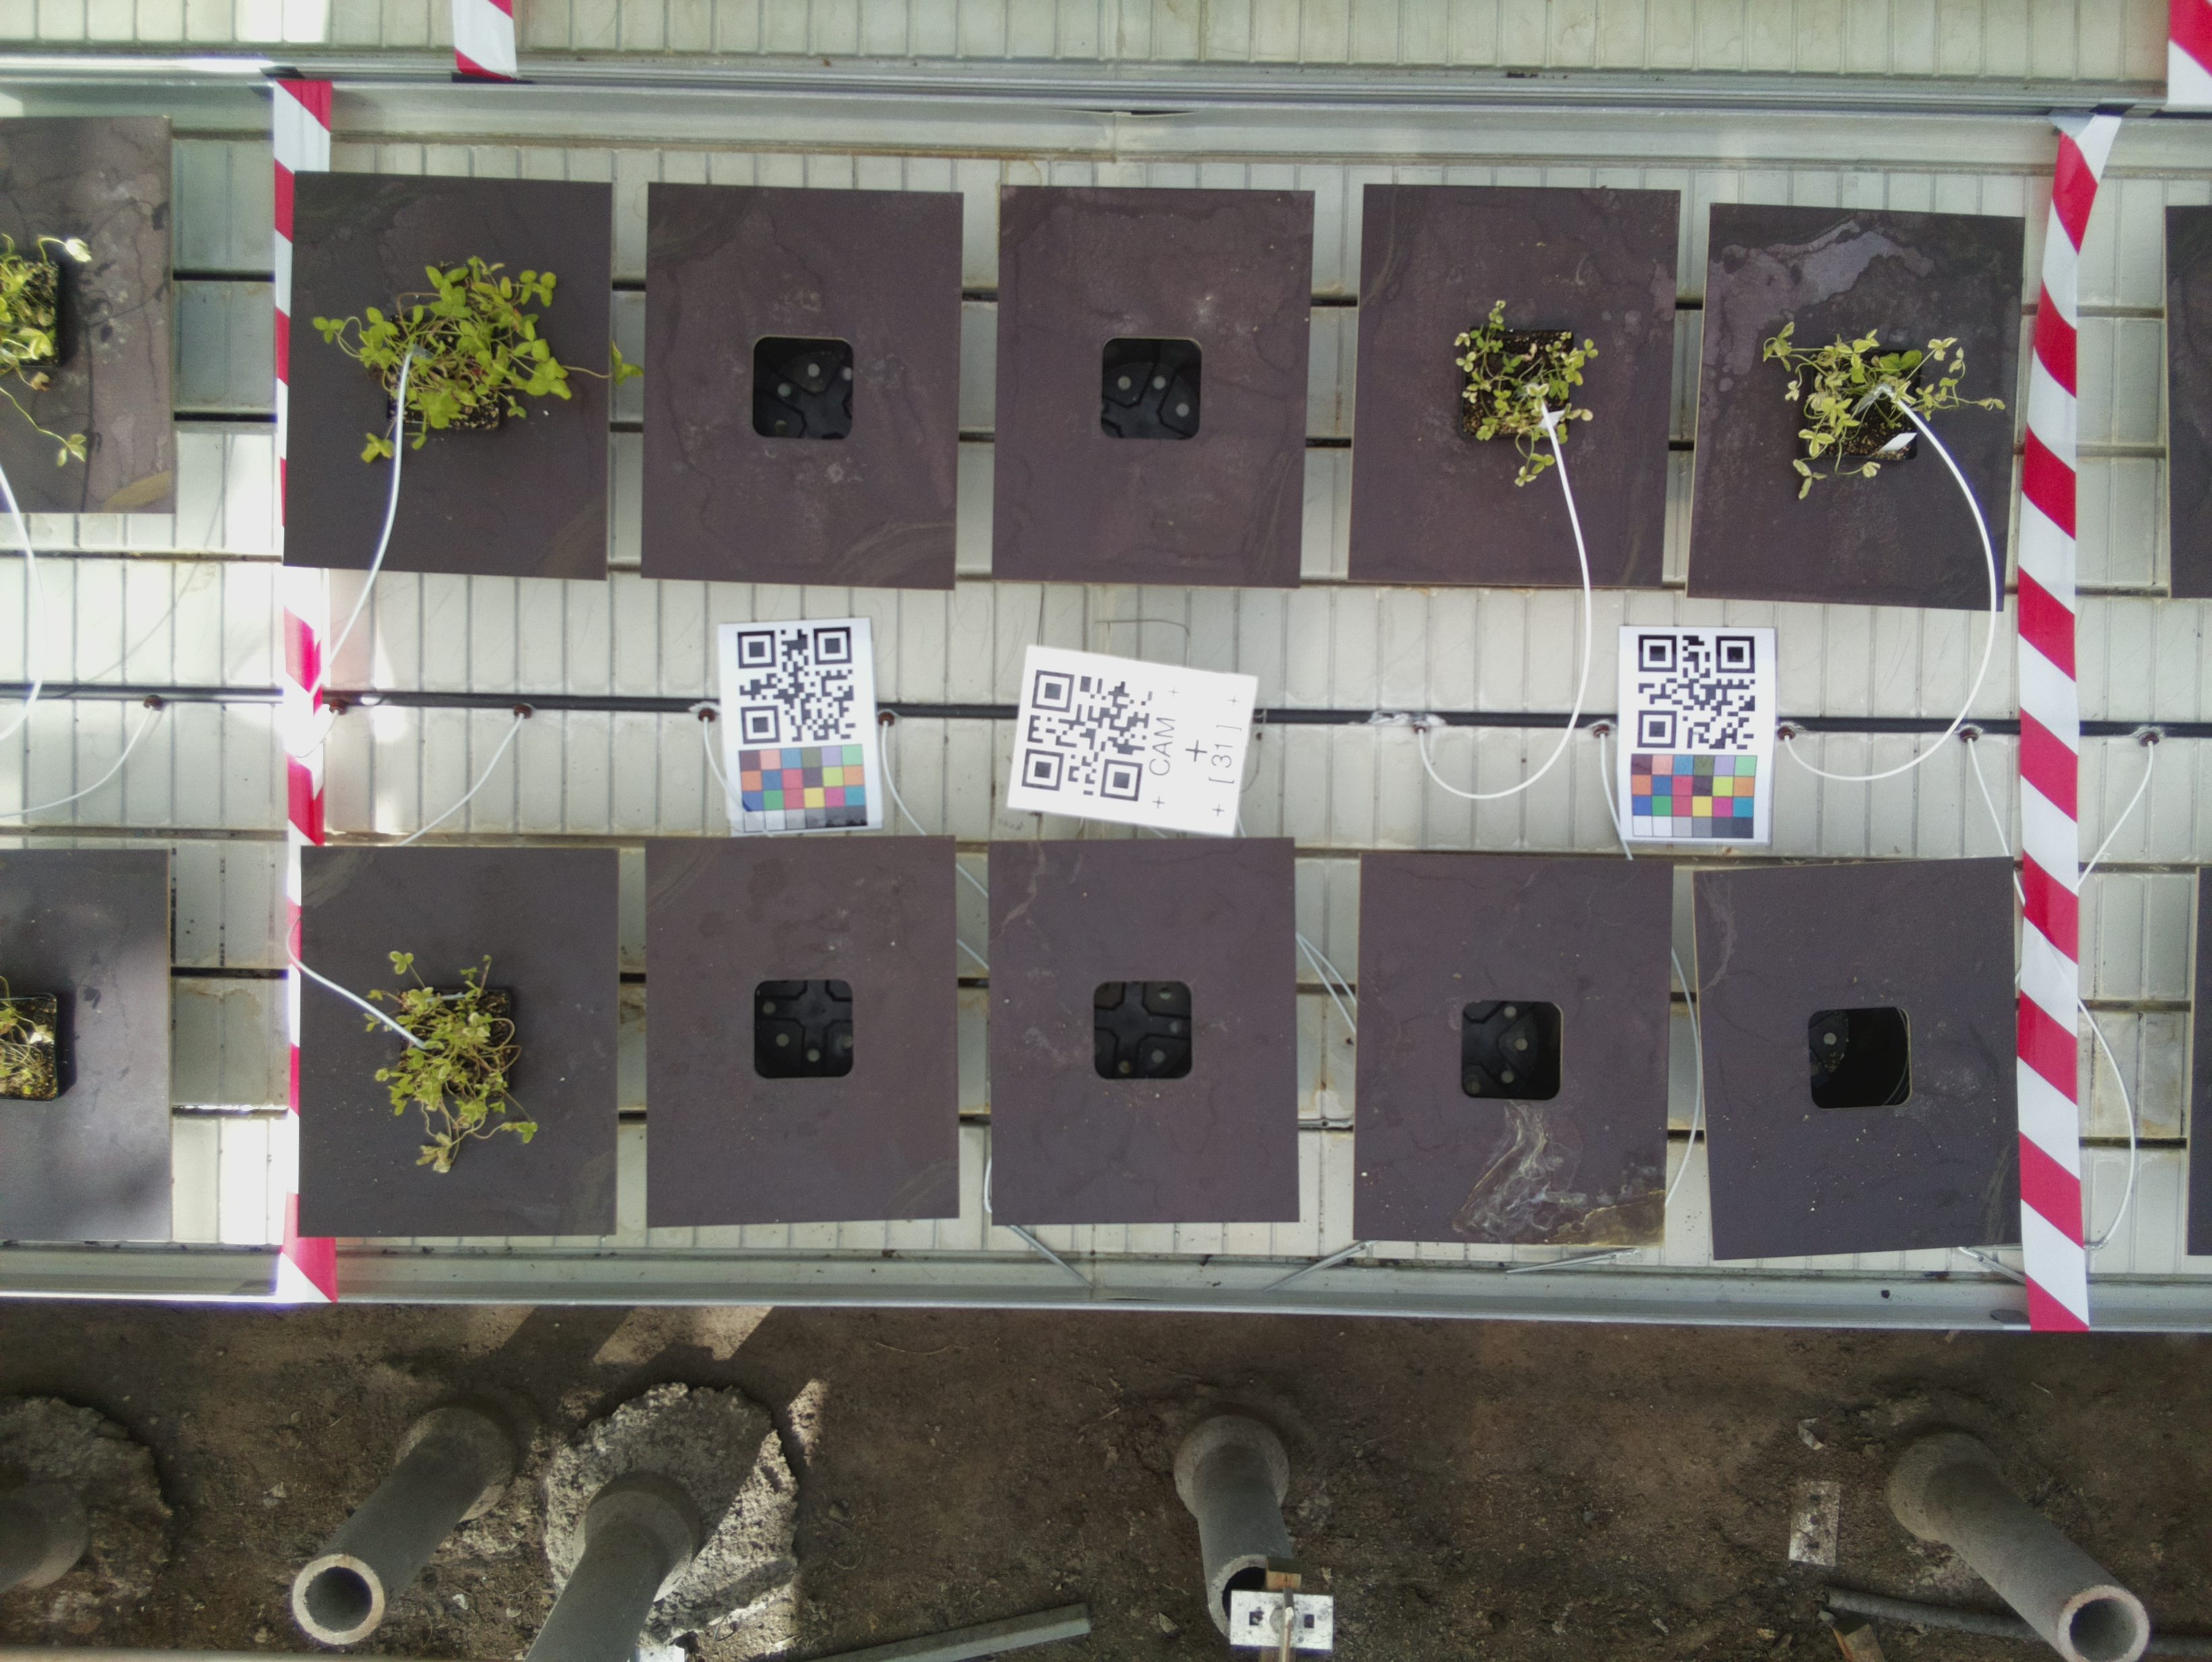POT: (285, 169, 615, 576), (1693, 859, 2029, 1259), (1688, 206, 2013, 604), (644, 183, 955, 597), (297, 845, 622, 1233), (997, 183, 1302, 587), (1362, 848, 1664, 1255), (644, 836, 960, 1222), (1362, 187, 1667, 583), (983, 841, 1301, 1222)
QRCODE: (1007, 639, 1259, 838)
QRCOLOR: (716, 613, 882, 831), (1618, 627, 1777, 843)
